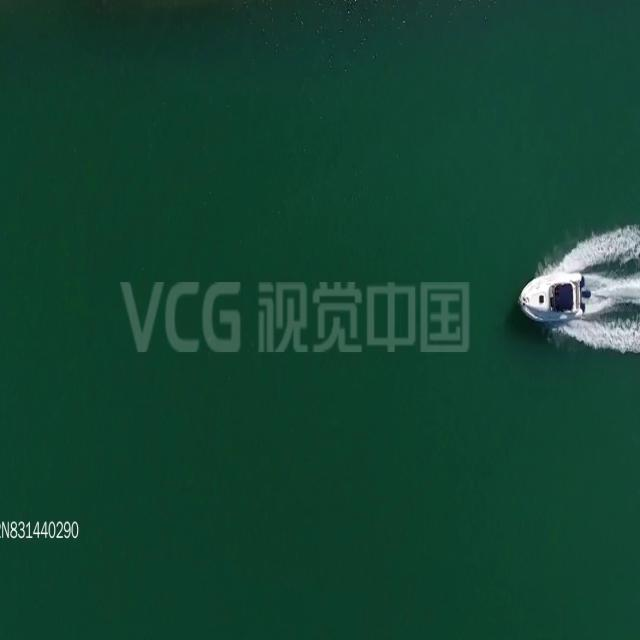houseboat: (518, 268, 586, 322)
